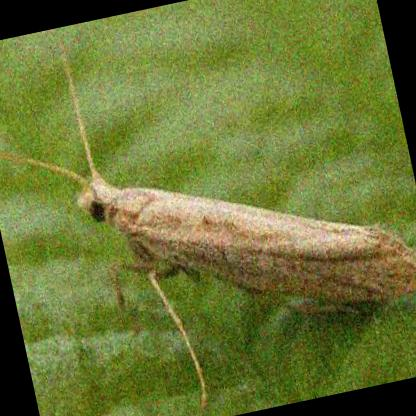plutella: (0, 44, 416, 416)
